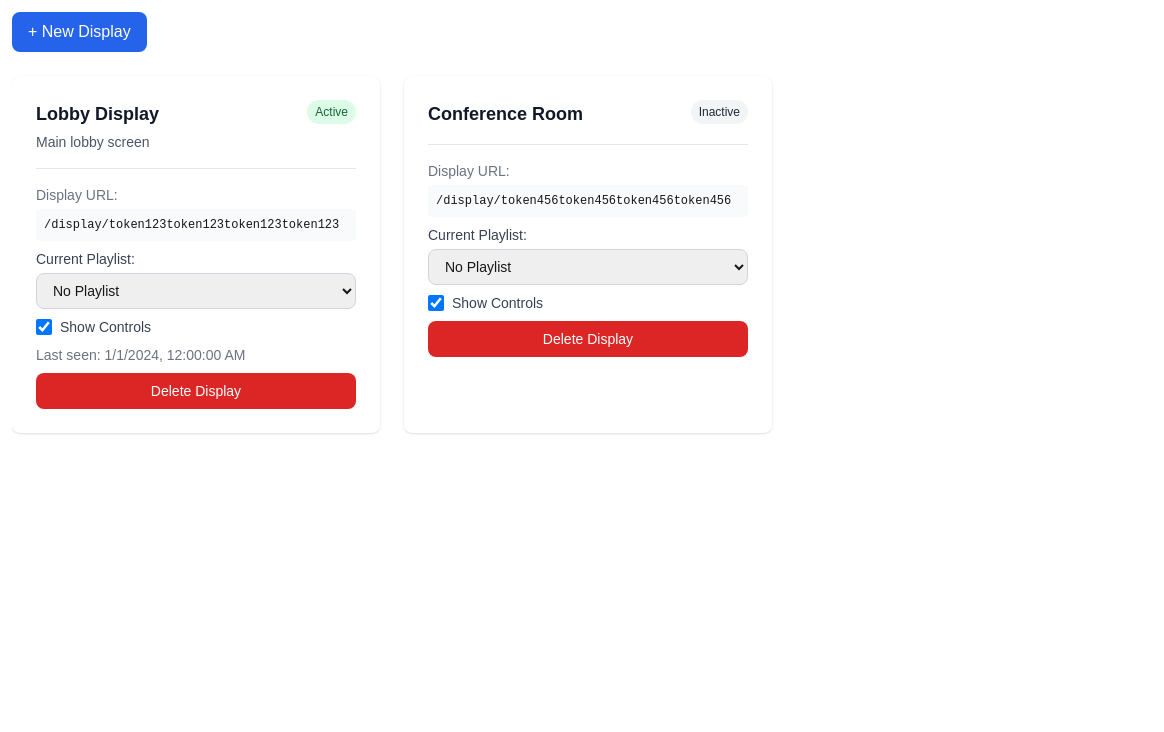
Test: DisplayManager Component › should hide create form when cancel clicked
The width and height of the screenshot is (1164, 732).
Click the button "+ New Display".
click(79, 32)  # box [12,12,147,52]
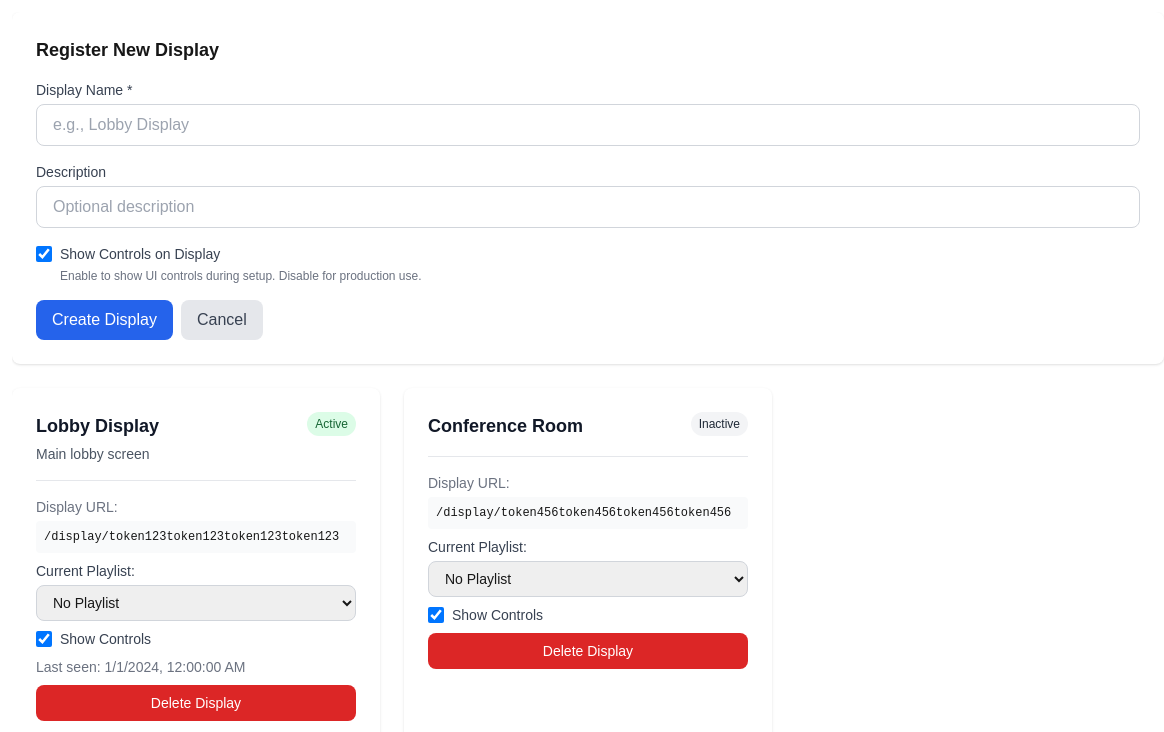
Expected: the heading "Register New Display" is shown, [36,40,219,60]
Click the button "Cancel".
click(222, 320)  # box [181,300,263,340]
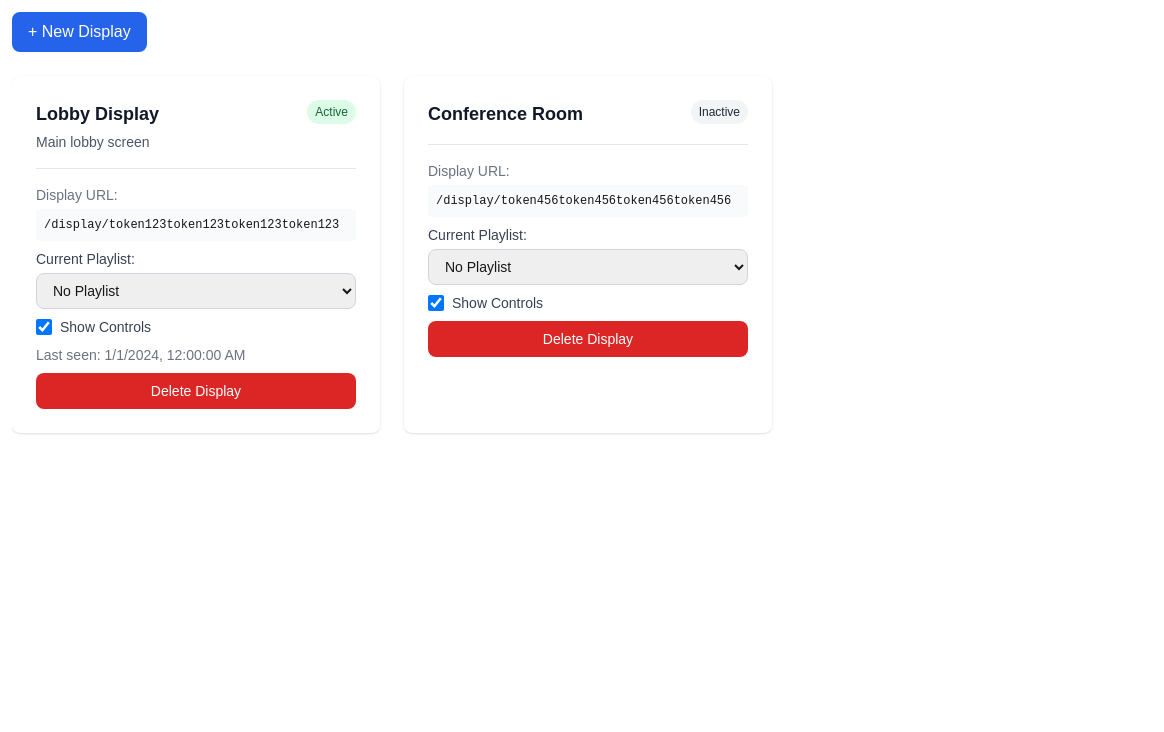
Expected: the heading "Register New Display" is gone
